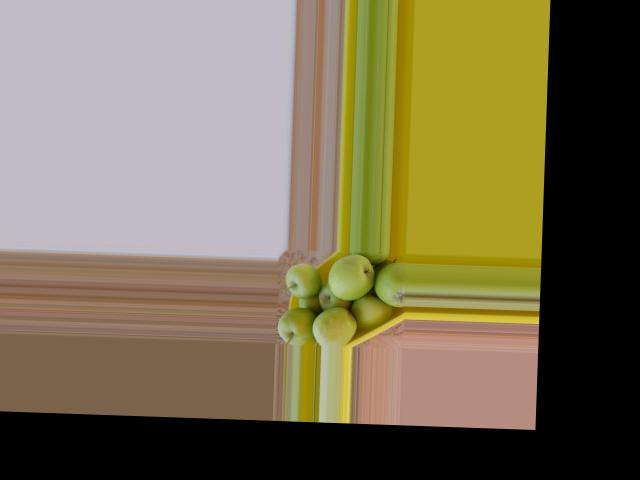apple: (351, 293, 394, 335)
